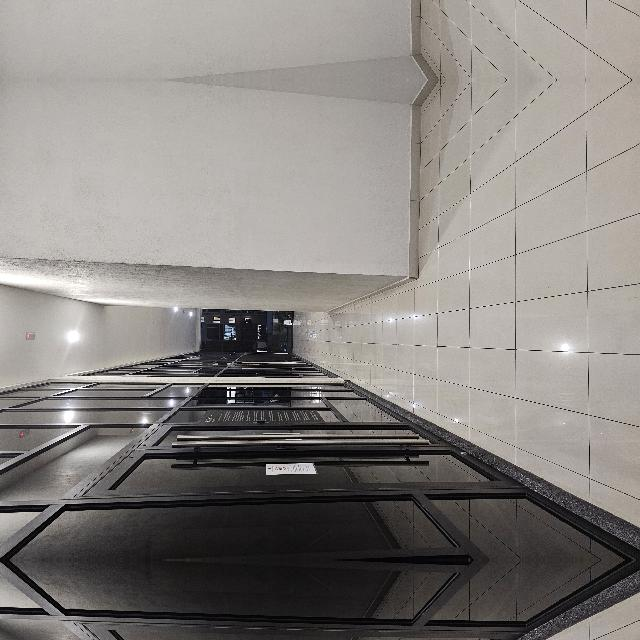door: (54, 156, 148, 572), (54, 548, 147, 640), (54, 0, 147, 4)
